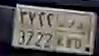2: (36, 10, 45, 48), (45, 12, 54, 50)
3: (18, 10, 26, 46)
7: (27, 11, 35, 46)
D: (74, 20, 84, 50)
